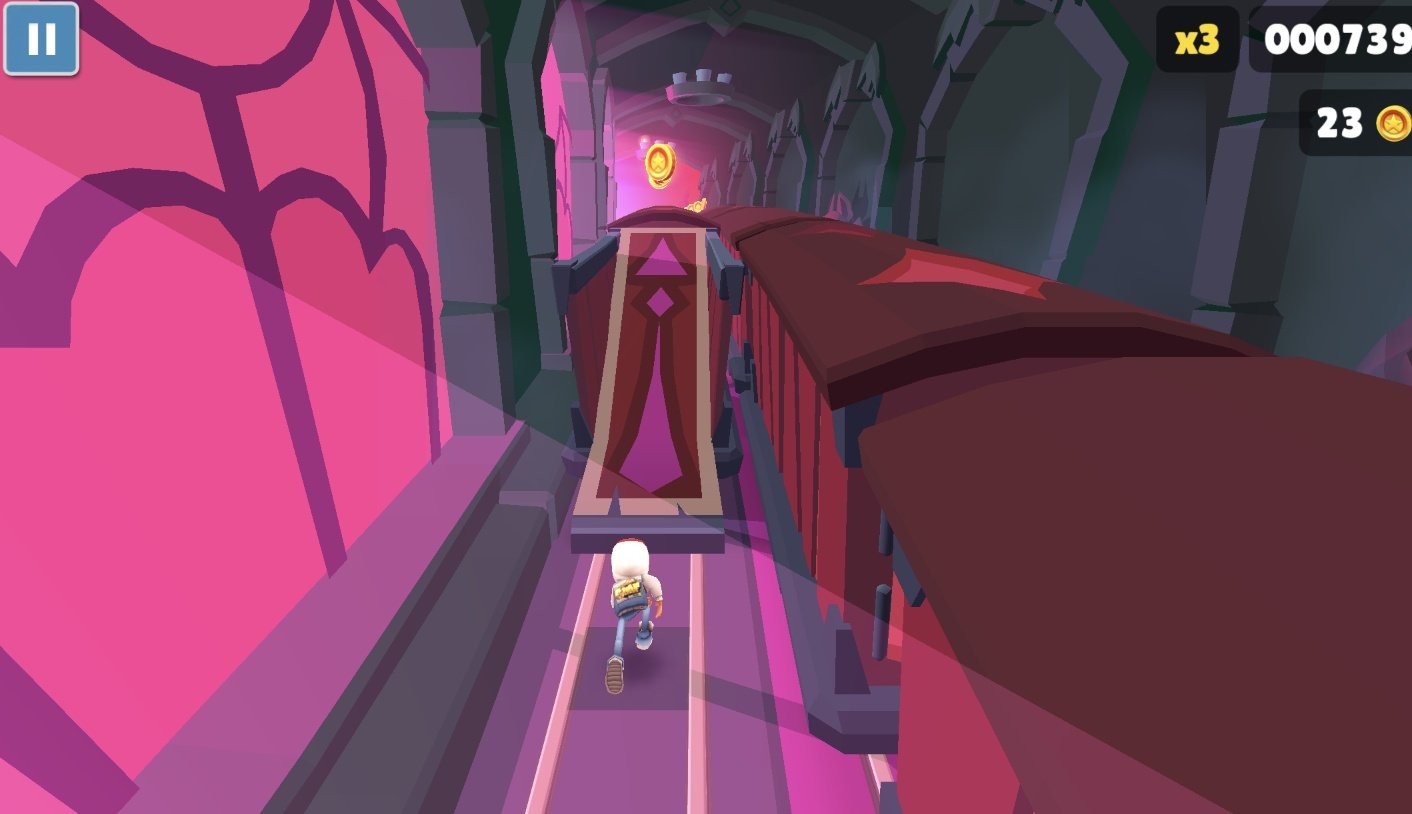train: (688, 209, 1412, 814), (542, 208, 749, 576)
